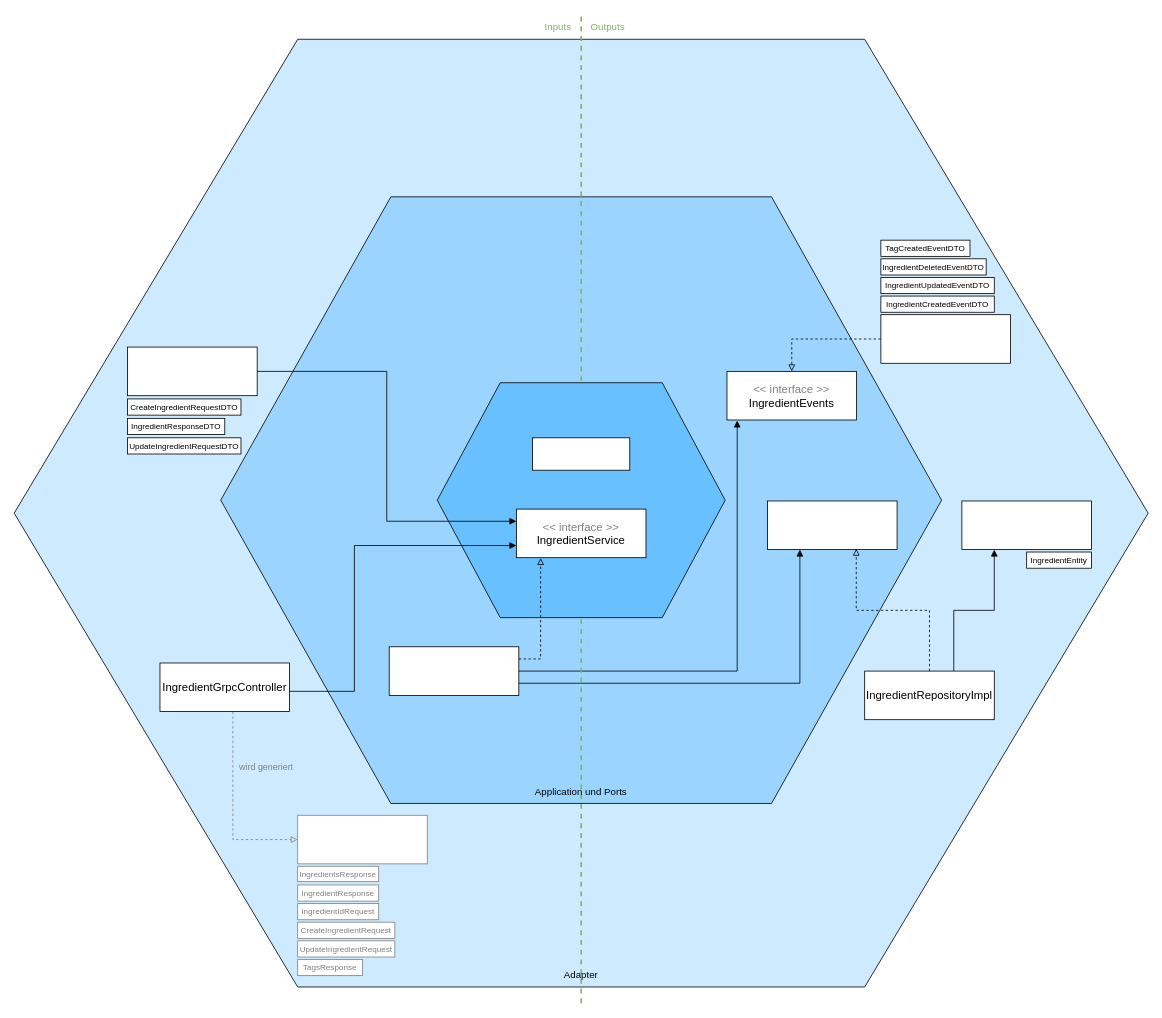
This 1162x1018 diagram has some shape labels left out. The centre of each missing label's shape, as x and y in pixels:
<< interface >> IngredientRepository: (832,525)
<< interface >> JpaIngredientRepository: (1026,525)
Ingredient: (581,453)
Ingredient RestControllerV1: (192,371)
IngredientServiceImpl: (453,670)
IngredientServiceStub: (362,839)
RabbitMQ IngredientEventsImpl: (945,338)
